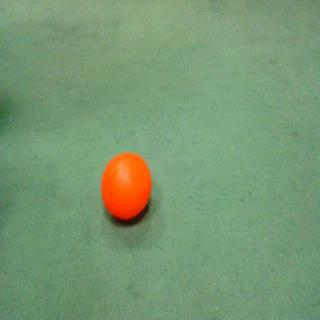orange: (98, 149, 154, 230)
